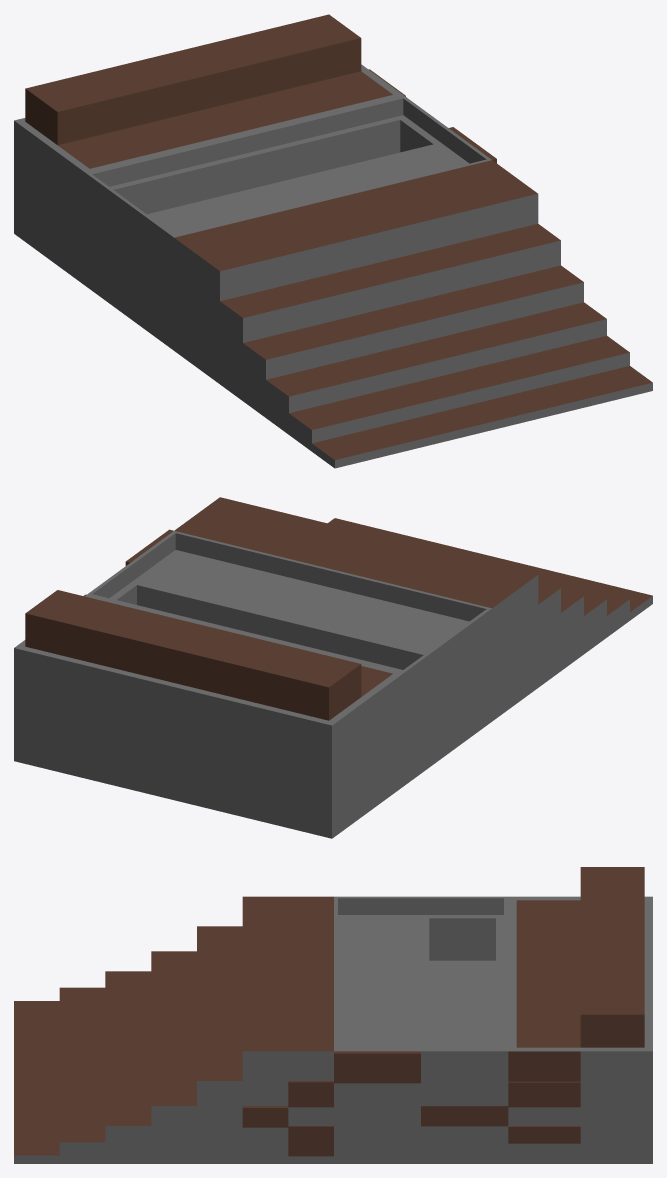
Rendered from Stairs.fbx.
3 views of the same model, one above another, from view 1: azimuth 30°, elevation 25°; view 2: azimuth 150°, elevation 25°; view 3: azimuth 270°, elevation 25° (orthographic).
Visible parts, largest first — view 1: Plane; view 2: Plane; view 3: Plane.
Part boxes in pixels (<box>): Plane: <box>14,14,652,468</box>; Plane: <box>14,497,652,838</box>; Plane: <box>14,867,652,1163</box>.
Size of the model in its own units: 203 by 88 by 349.
